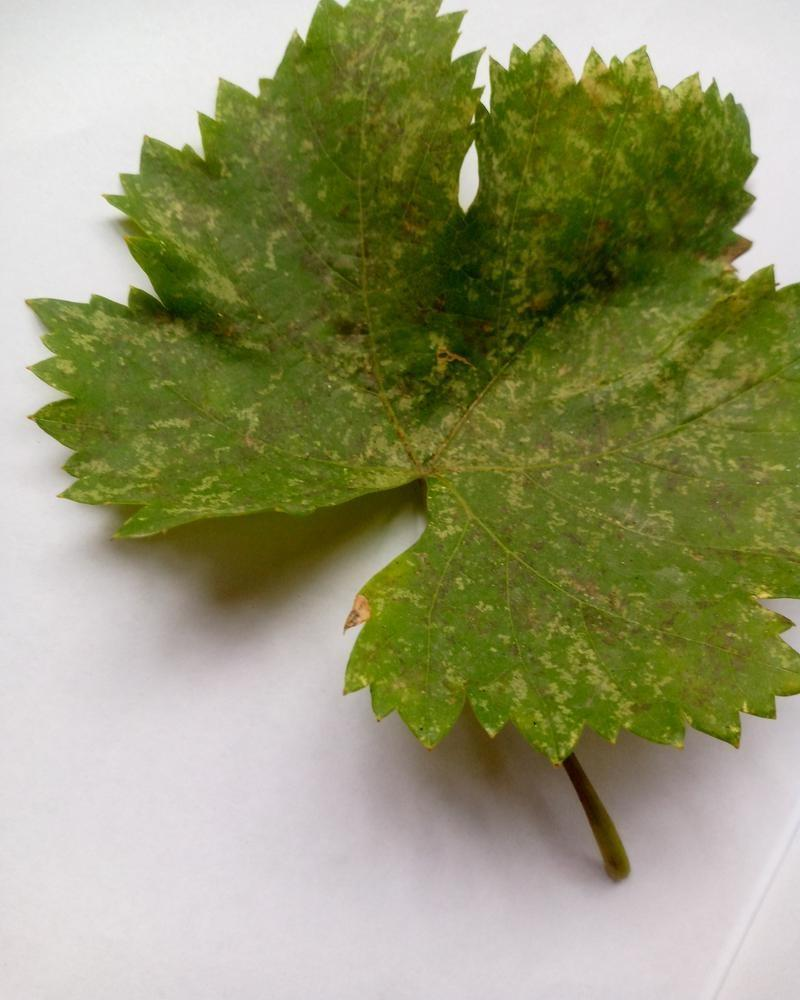Powdery-Mildew: (440, 479, 731, 654), (629, 314, 799, 558), (434, 586, 652, 743), (485, 51, 719, 185), (139, 141, 326, 307), (79, 380, 298, 511), (317, 308, 480, 476), (503, 343, 627, 530), (35, 295, 241, 364), (347, 587, 394, 634)
